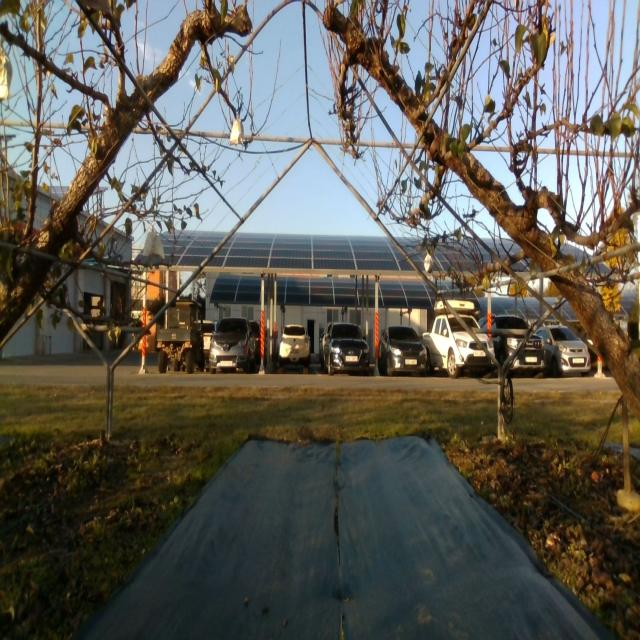pearbags: (143, 232, 165, 260), (230, 117, 243, 147)
